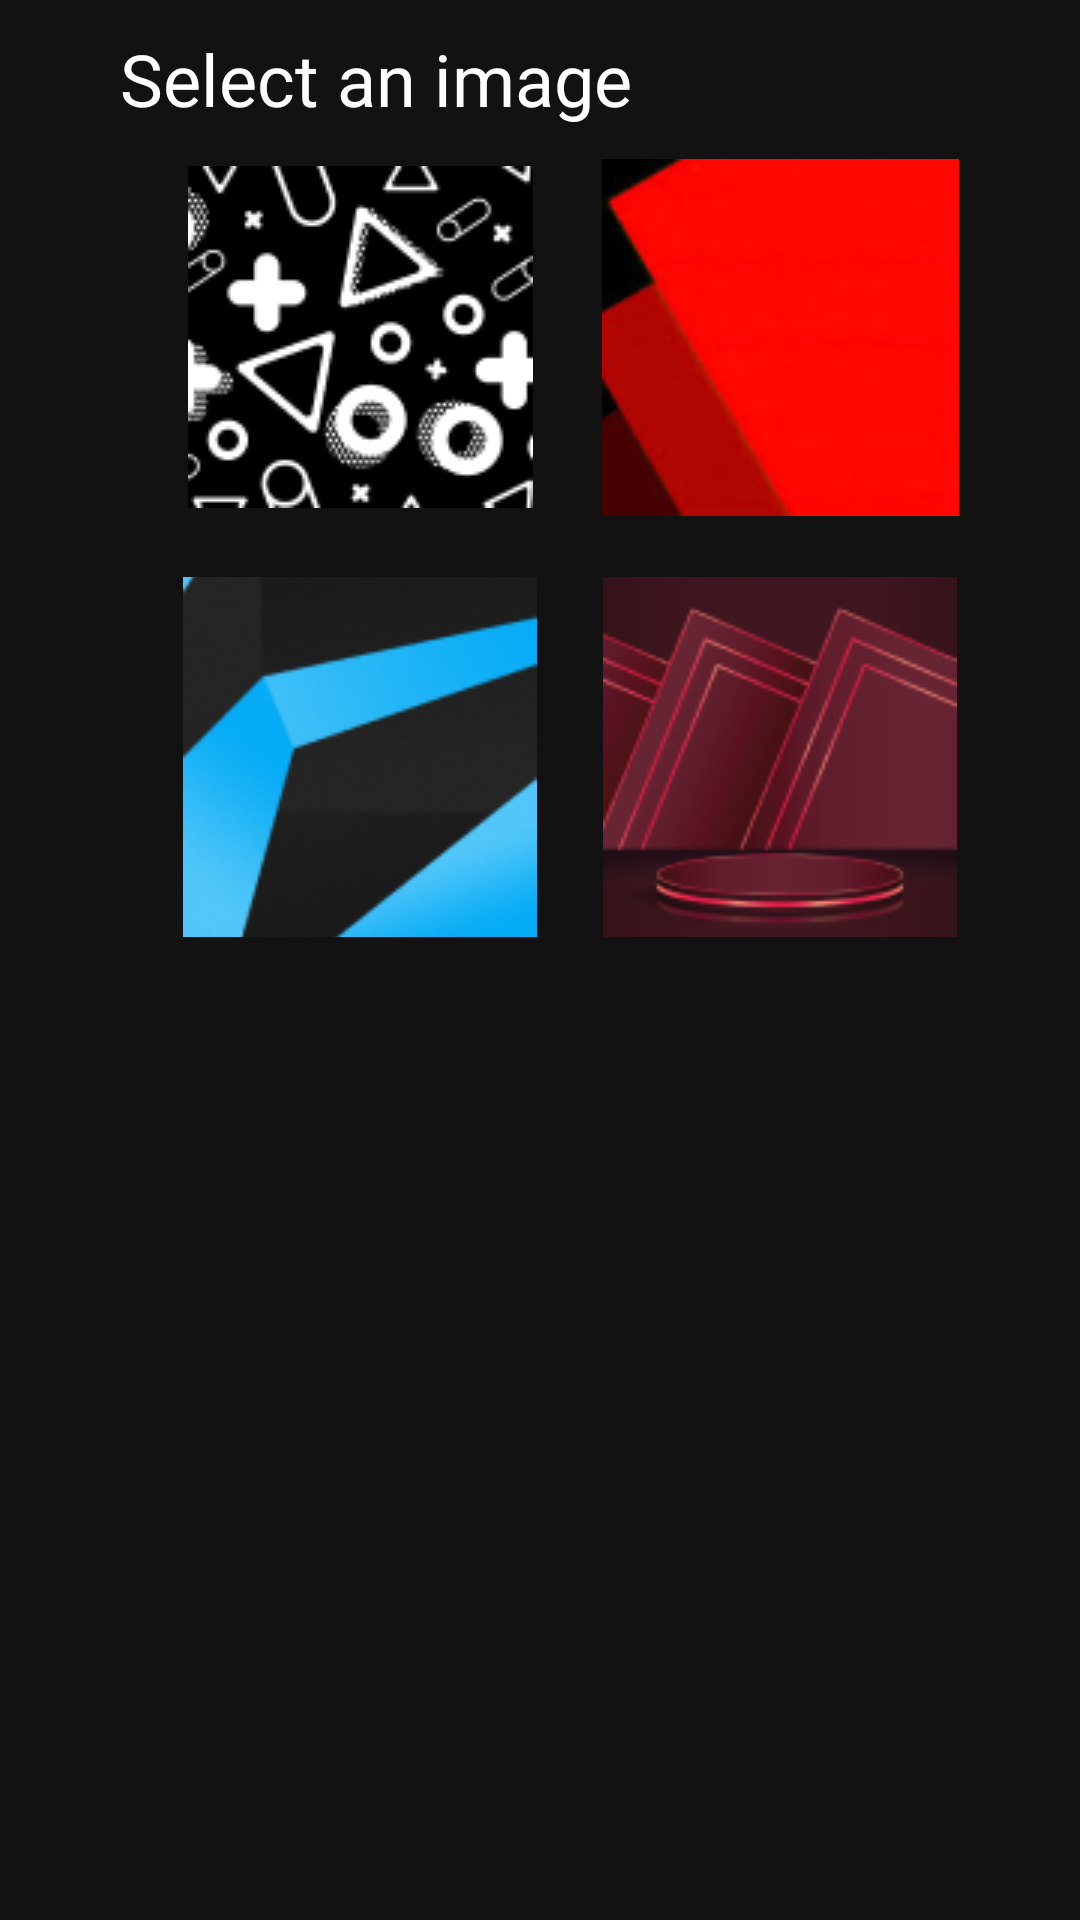

Icons on this 1080×1920 Android screen, each with the point to tap as point (x, y):
thumbnail: point (780, 337), point (360, 337), point (360, 757), point (780, 757)
